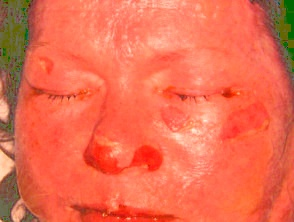SJS-TEN: (77, 121, 169, 193), (205, 93, 285, 167), (65, 190, 159, 222), (149, 91, 202, 142), (31, 44, 64, 79), (72, 79, 110, 106)
